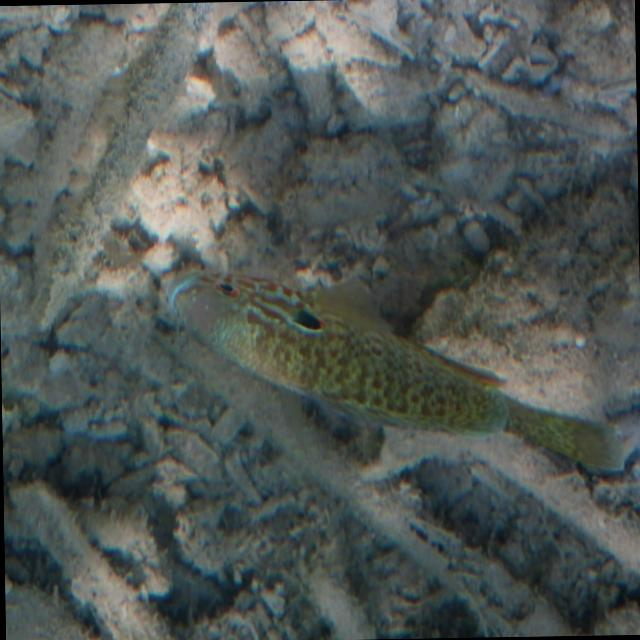Gunes Levregi: (160, 251, 628, 485)
